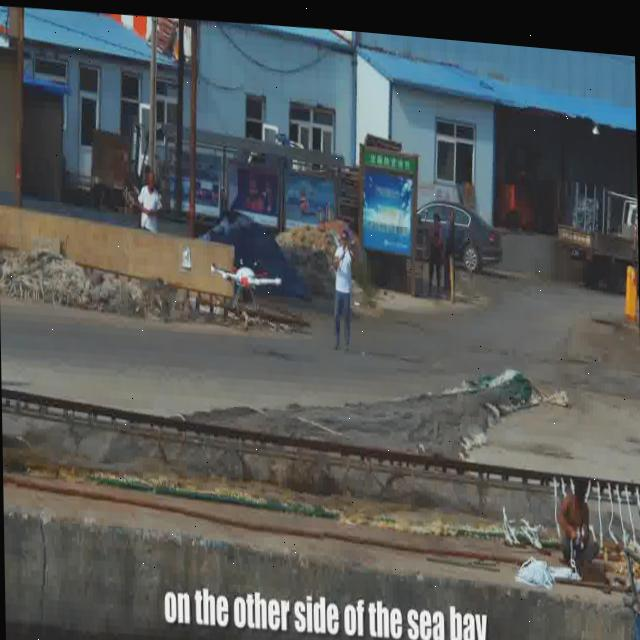drone: (197, 216, 290, 331)
